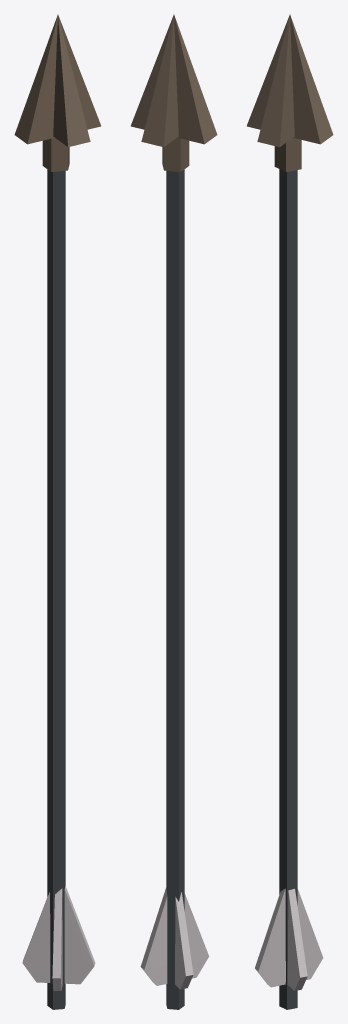
File: _arrow_c_11.glb
3 views of the same model, side by side, from view 1: azimuth 30°, elevation 25°; view 2: azimuth 150°, elevation 25°; view 3: azimuth 330°, elevation 25° (orthographic).
Visible parts, largest first — view 1: arrow_c_11; view 2: arrow_c_11; view 3: arrow_c_11.
Boxes of the visible parts, <box> form: arrow_c_11: <box>14,14,100,1009</box>; arrow_c_11: <box>131,14,217,1009</box>; arrow_c_11: <box>247,14,333,1009</box>.
Size of the model in its own units: 1497 by 19156 by 1497.
1 material, 1 textured.
